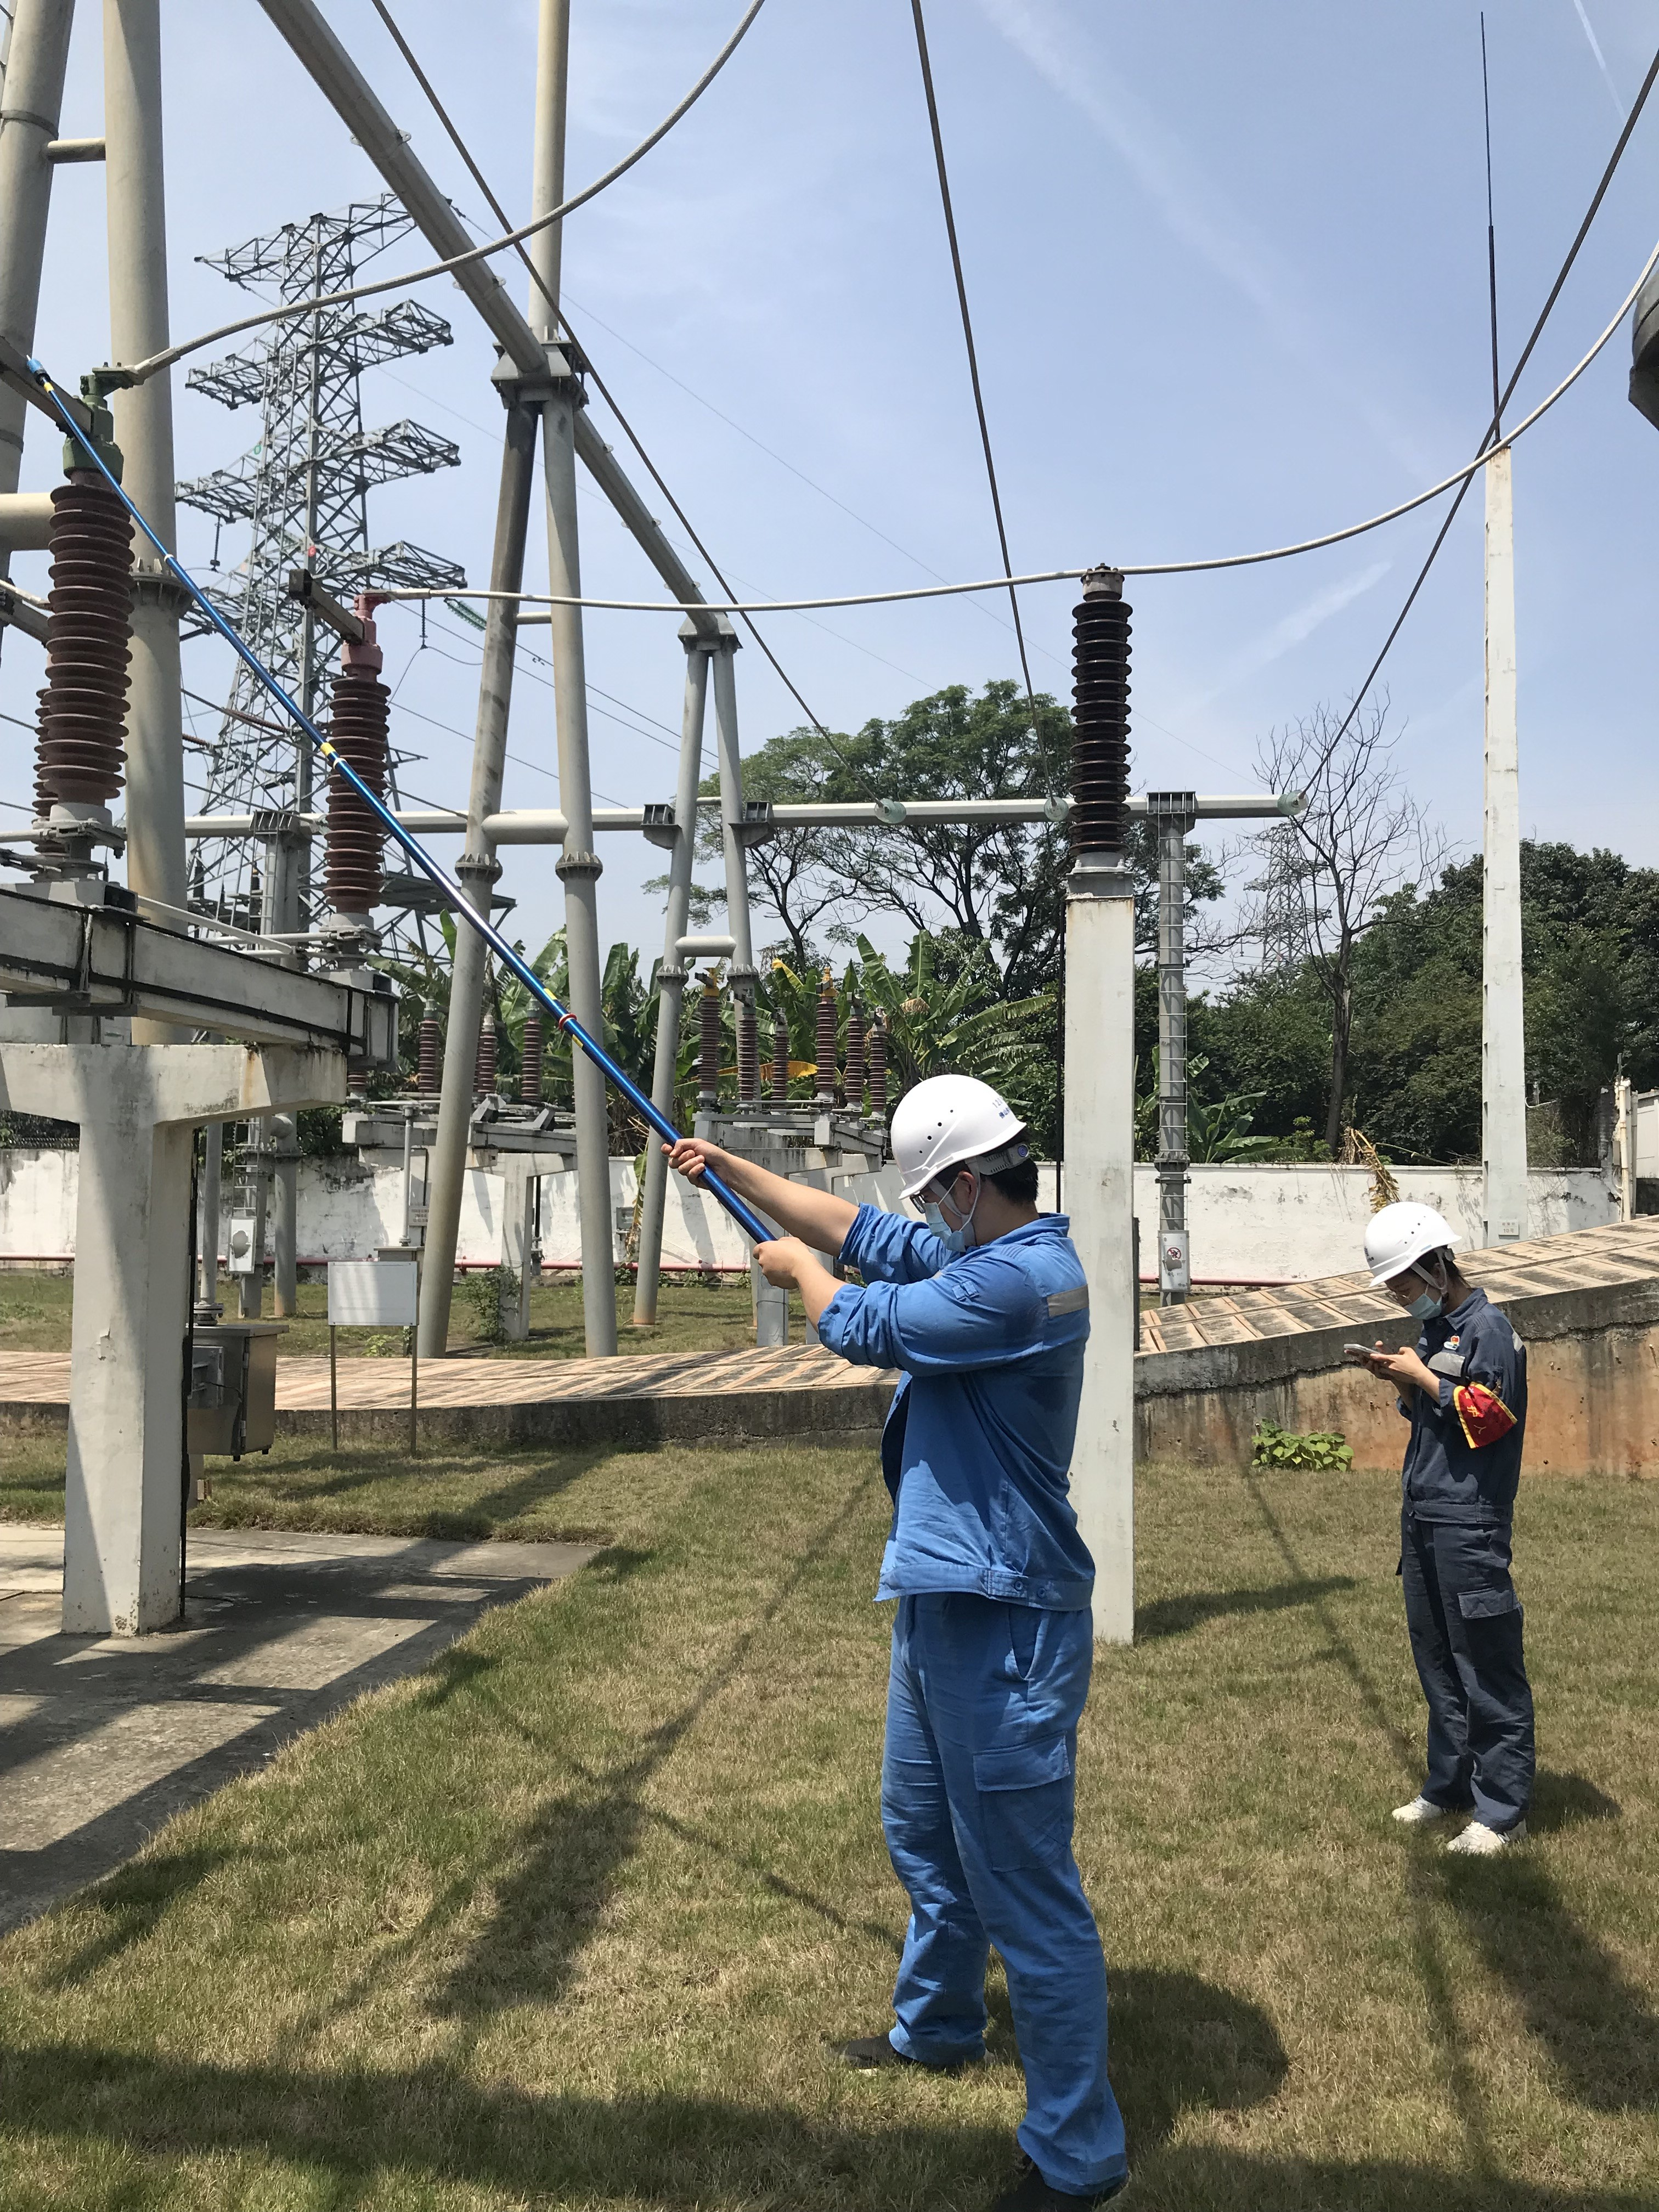downsuit: (870, 1623, 1131, 2188), (1394, 1538, 1547, 1813)
upsuit: (810, 1195, 1091, 1595), (1387, 1299, 1535, 1507)
wrongsuit: (873, 1376, 927, 1578)
wrongtop: (690, 1139, 890, 1359)
